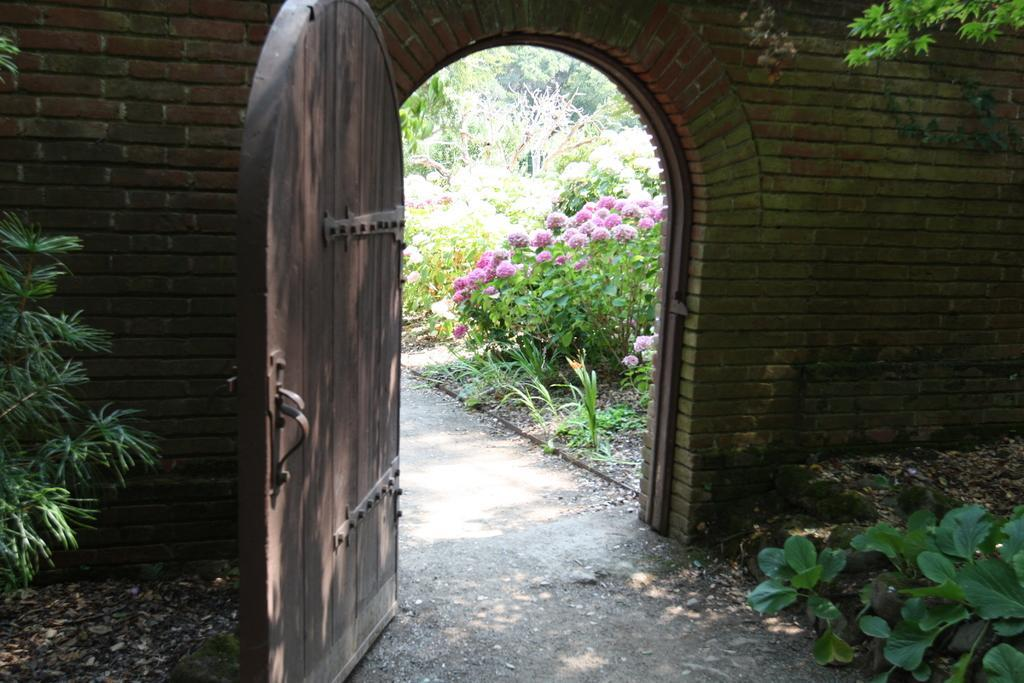door: (270, 41, 398, 638)
handle: (270, 362, 316, 500)
